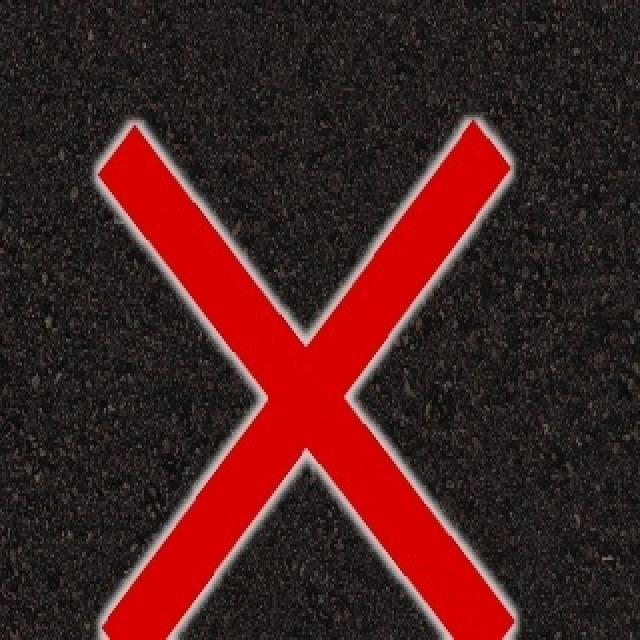x_marker: (97, 121, 513, 639)
